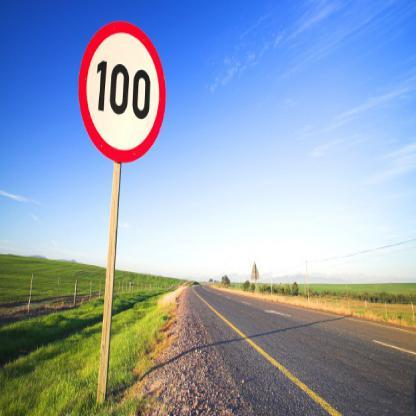Speed Limit 100: (82, 21, 165, 162)
